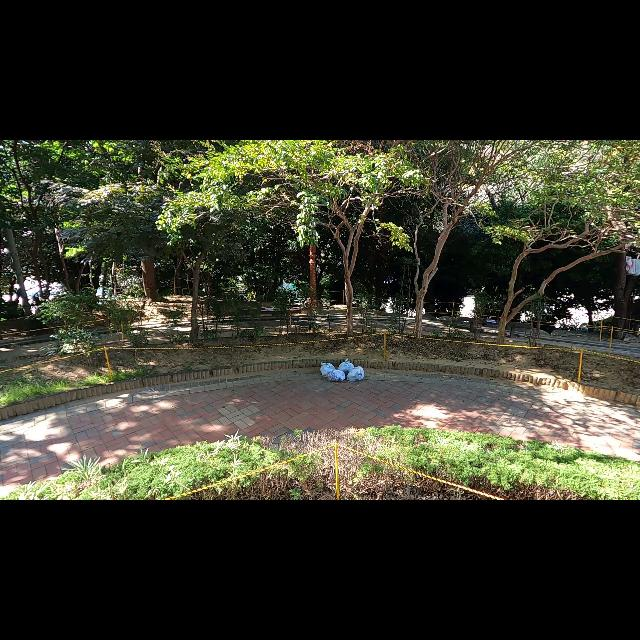trash: (346, 364, 366, 382), (318, 362, 338, 378), (338, 356, 354, 374), (326, 369, 346, 383)
